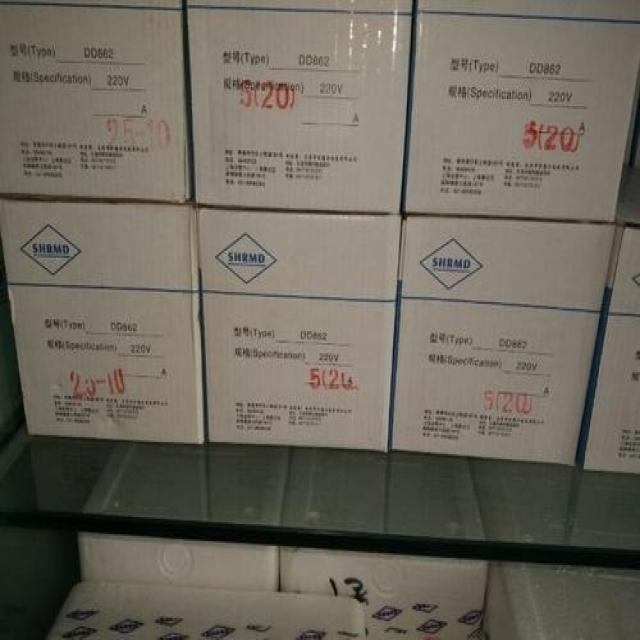box: (389, 215, 616, 468), (404, 0, 640, 224), (0, 200, 206, 447), (197, 208, 402, 454), (187, 0, 413, 215), (577, 213, 640, 474)
